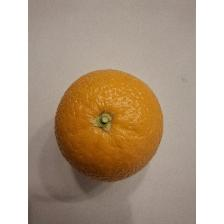Orange: (52, 64, 166, 186)
